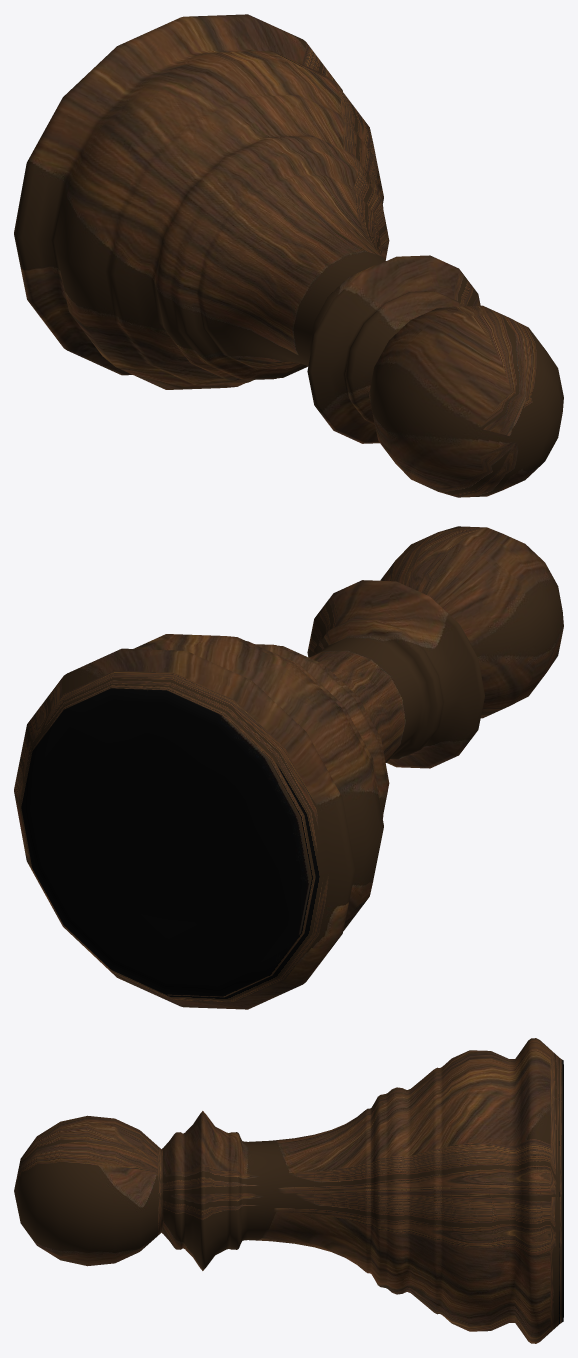
File: Pedone_Nero_1-1k.obj
3 views of the same model, one above another, from view 1: azimuth 30°, elevation 25°; view 2: azimuth 150°, elevation 25°; view 3: azimuth 270°, elevation 25° (orthographic). The views are drawn at different scales.
Parts seen in each view (by area): view 1: 12931_WoodenChessPawnSideA_v1_l3; view 2: 12931_WoodenChessPawnSideA_v1_l3; view 3: 12931_WoodenChessPawnSideA_v1_l3.
Boxes of the visible parts, <box> form: 12931_WoodenChessPawnSideA_v1_l3: <box>14,14,563,497</box>; 12931_WoodenChessPawnSideA_v1_l3: <box>14,526,563,1009</box>; 12931_WoodenChessPawnSideA_v1_l3: <box>14,1038,563,1343</box>.
Size of the model in its own units: 4.47 by 4.47 by 8.03.
1 material, 1 textured.
